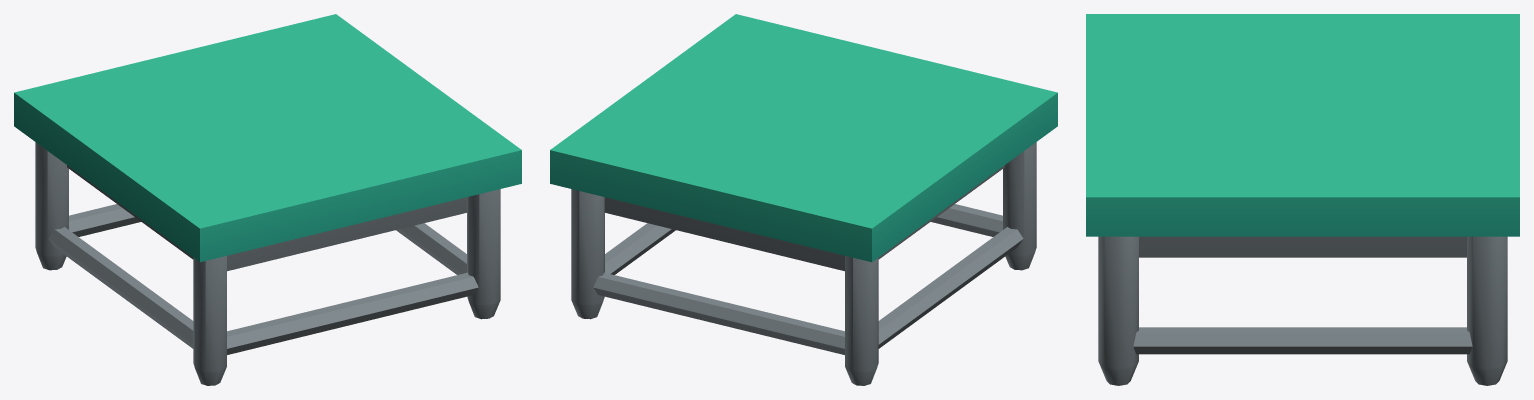
The model's file is Kitchen Table-ocdwmd2IKZ.glb.
The picture shows the model from 3 angles, left to right: view 1: azimuth 30°, elevation 25°; view 2: azimuth 150°, elevation 25°; view 3: azimuth 270°, elevation 25°; orthographic projection. The views are drawn at different scales.
Parts seen in each view (by area): view 1: kitchentable_B; view 2: kitchentable_B; view 3: kitchentable_B.
Part boxes in pixels (box(x1,y1,x2,y2)): kitchentable_B: box(14, 14, 521, 385); kitchentable_B: box(550, 14, 1057, 385); kitchentable_B: box(1086, 14, 1519, 385).
Bounding box in the file's own units: 2 × 1 × 2.
Materials: 1 (1 with a texture image).
